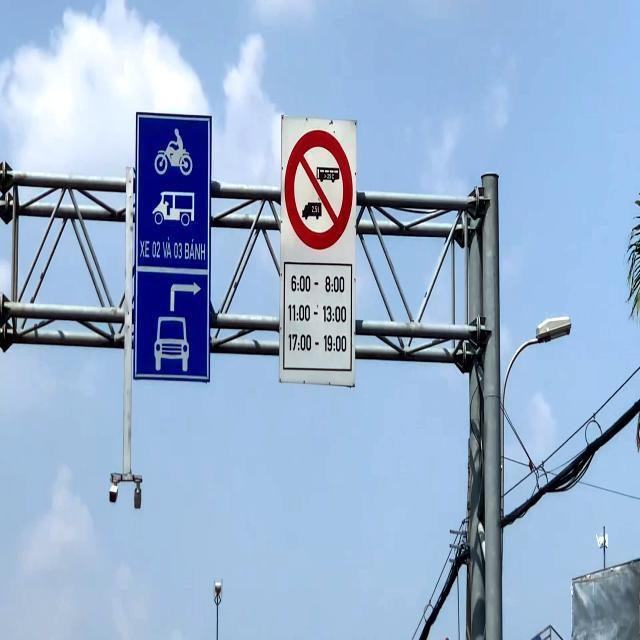Bien bao cam xe oto khach va xe oto tai: (282, 122, 358, 250)
